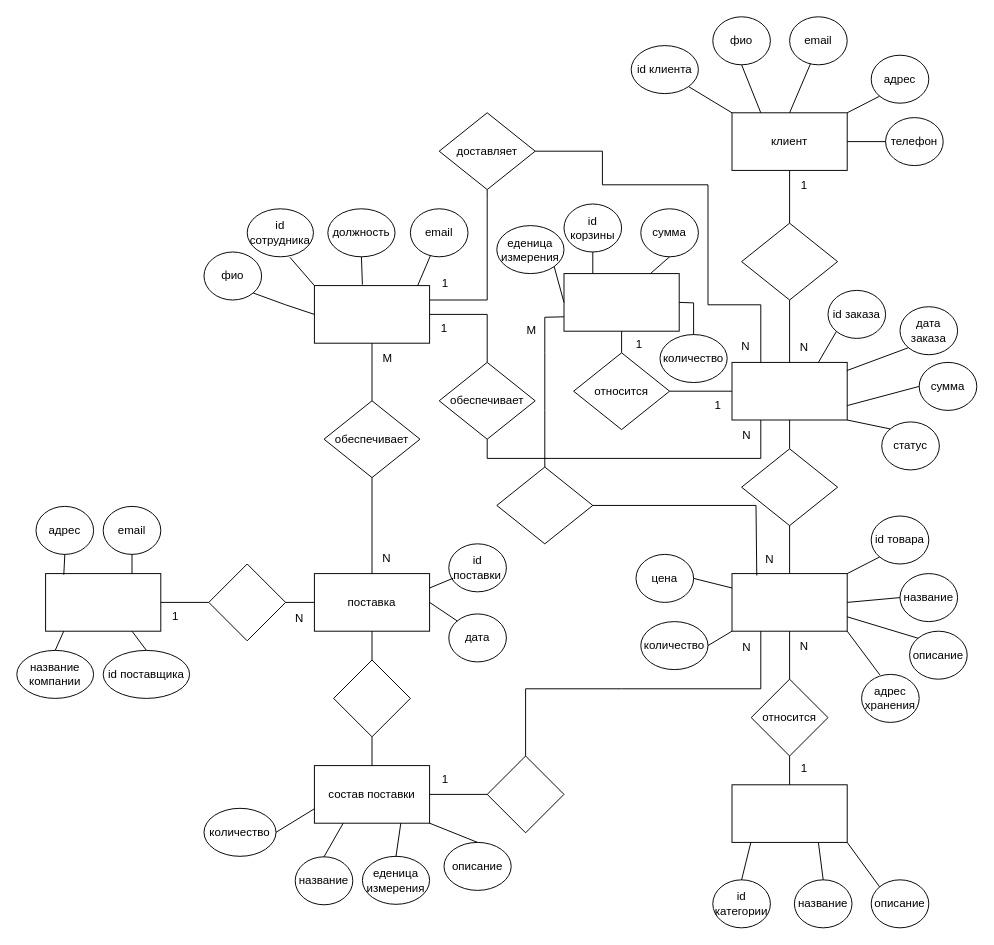
The diagram is 994 pixels wide and 945 high, and some of its shapes have lost their labels. The centre of each missing label's shape, as x and y in pixels:
включает: the point at 525,794
включает в себя: the point at 371,698
входит: the point at 544,505
заказ: the point at 789,390
заказывает: the point at 789,261
категория: the point at 789,813
корзина: the point at 621,302
поставщик: the point at 103,602
производит: the point at 247,602
сотрудник(агент): the point at 371,314
товар: the point at 789,602
